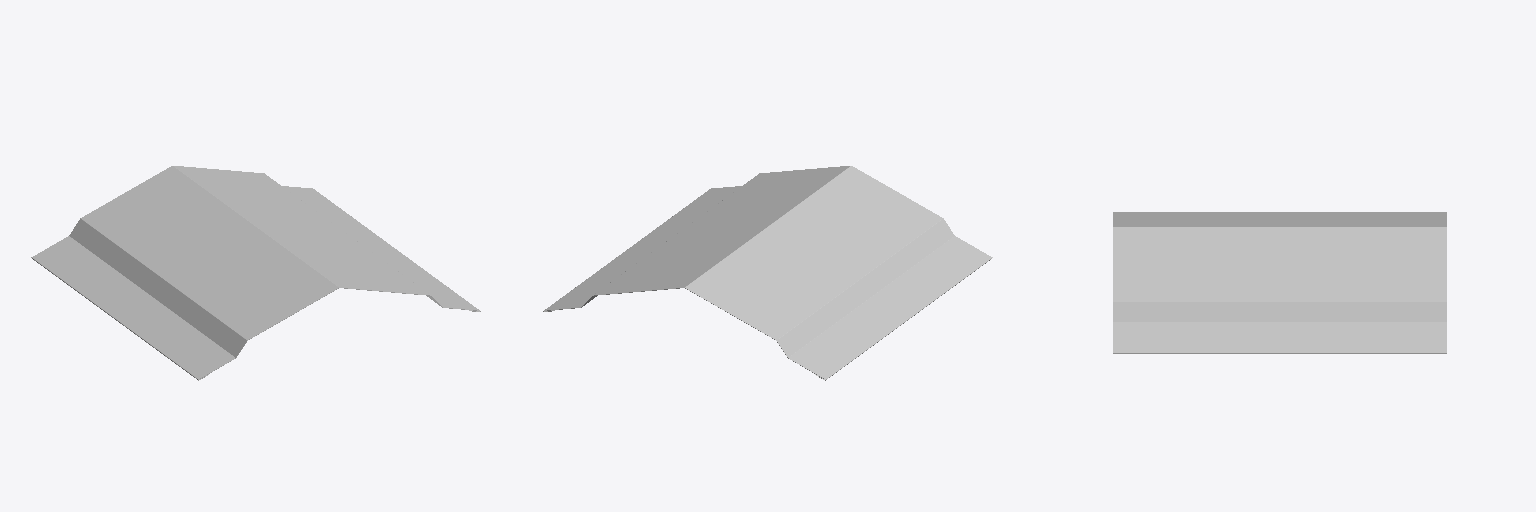
Rendered from RidgeCap.obj.
3 views of the same model, side by side, from view 1: azimuth 30°, elevation 25°; view 2: azimuth 150°, elevation 25°; view 3: azimuth 270°, elevation 25° (orthographic).
Visible parts, largest first — view 1: rcp_v1; view 2: rcp_v1; view 3: rcp_v1.
Boxes of the visible parts, <box> form: rcp_v1: <box>31,166,480,380</box>; rcp_v1: <box>543,166,992,380</box>; rcp_v1: <box>1113,212,1446,353</box>.
Bounding box in the file's own units: 1.49 × 0.2954 × 1.52.